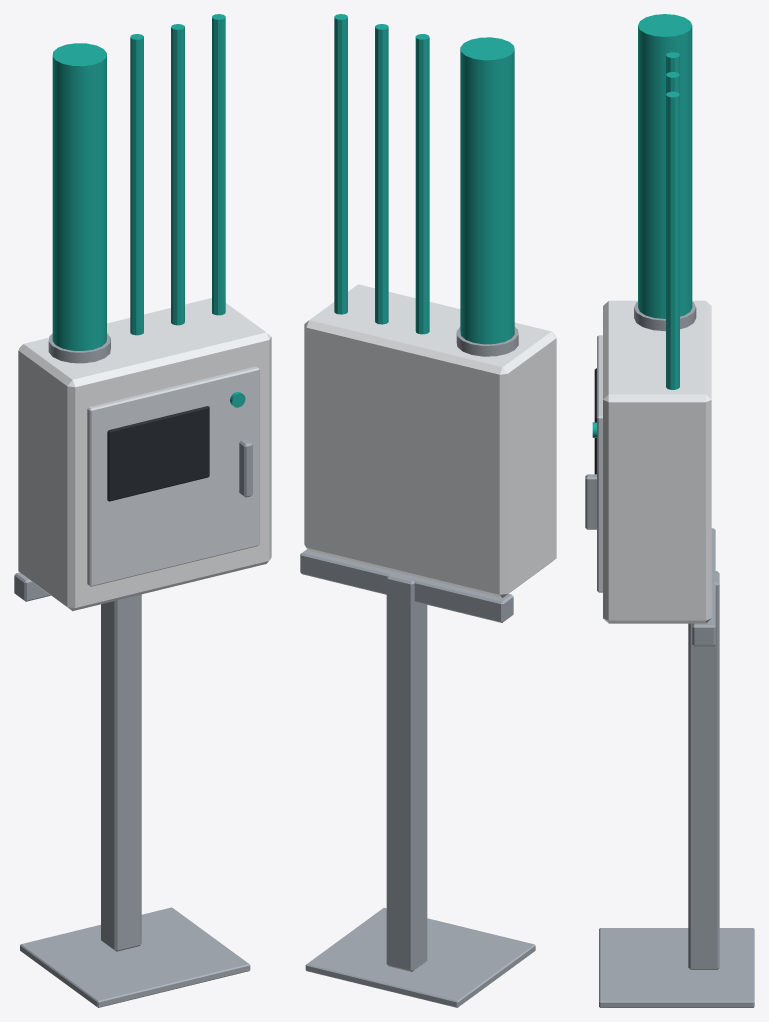
Rendered from valve-manifold-box.glb.
3 views of the same model, side by side, from view 1: azimuth 30°, elevation 25°; view 2: azimuth 150°, elevation 25°; view 3: azimuth 270°, elevation 25° (orthographic).
Visible parts, largest first — view 1: valve-manifold-box; view 2: valve-manifold-box; view 3: valve-manifold-box.
Part boxes in pixels (x1,y1,x2,y2): valve-manifold-box: (14,14,271,1007); valve-manifold-box: (300,14,556,1007); valve-manifold-box: (585,14,754,1007).
Size of the model in its own units: 0.6 by 2.6 by 0.435.
